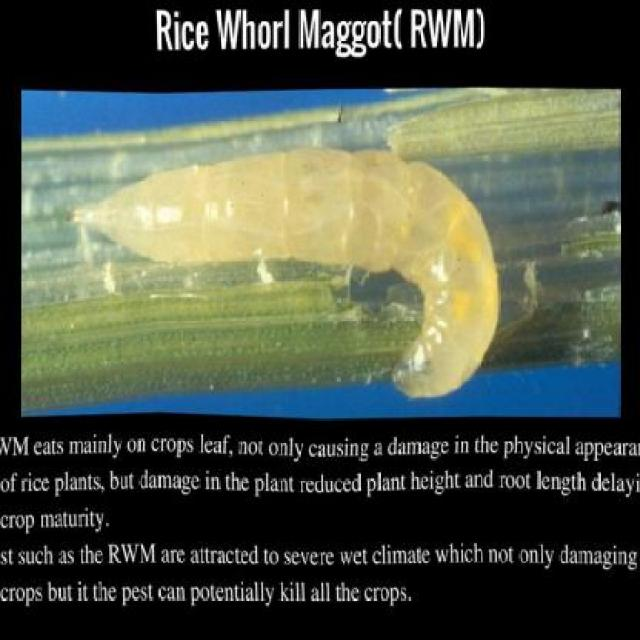whorl-maggot: (57, 123, 506, 406)
